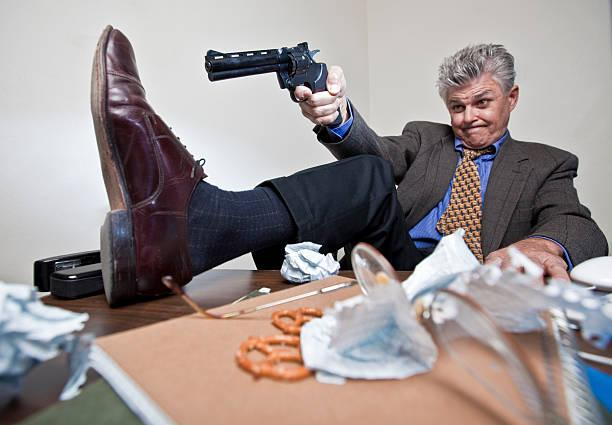weapon: (199, 31, 348, 129)
